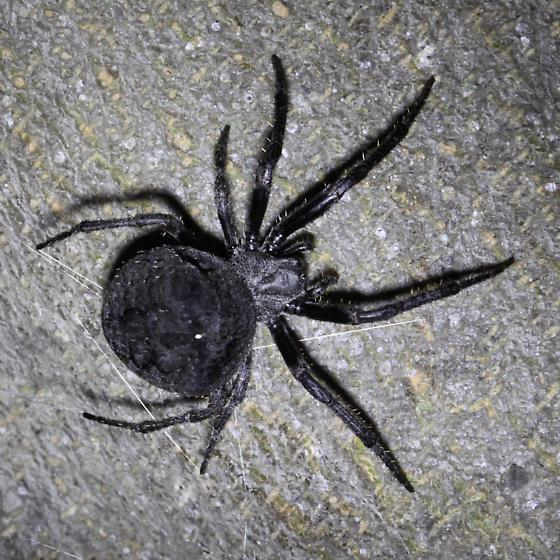spider: (25, 38, 544, 511)
